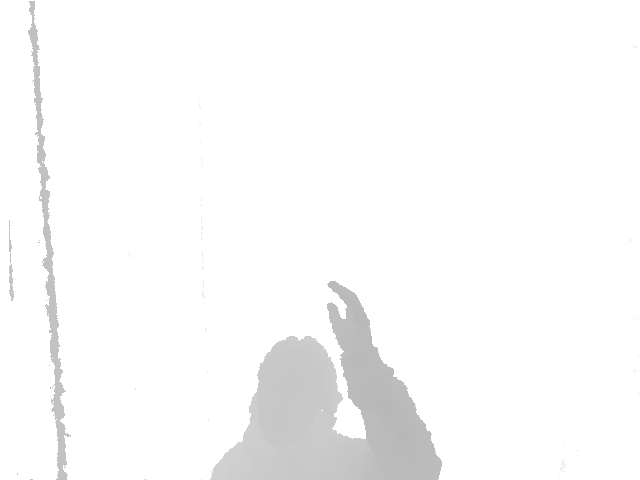hand: (324, 278, 381, 372)
head: (242, 336, 345, 434)
person: (208, 277, 443, 480)
